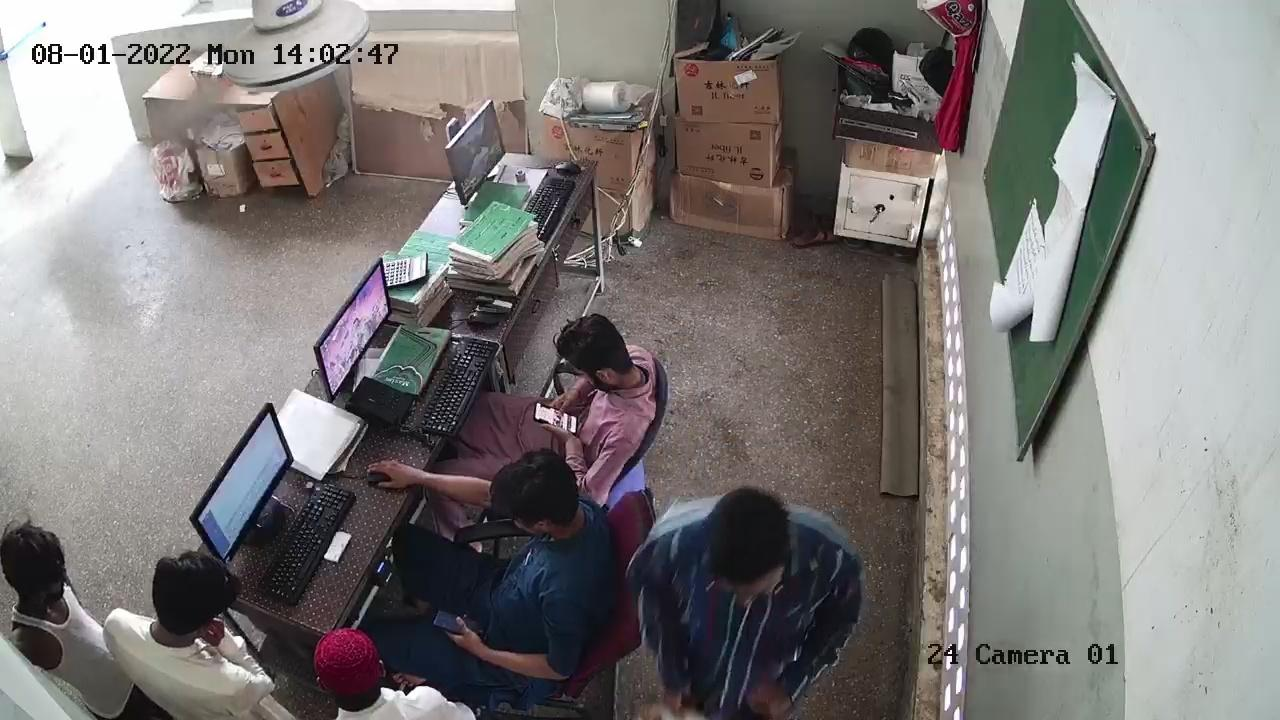person: (642, 495, 854, 710), (405, 458, 607, 678), (469, 313, 662, 470), (119, 548, 287, 720), (1, 522, 157, 695), (319, 637, 482, 720)
